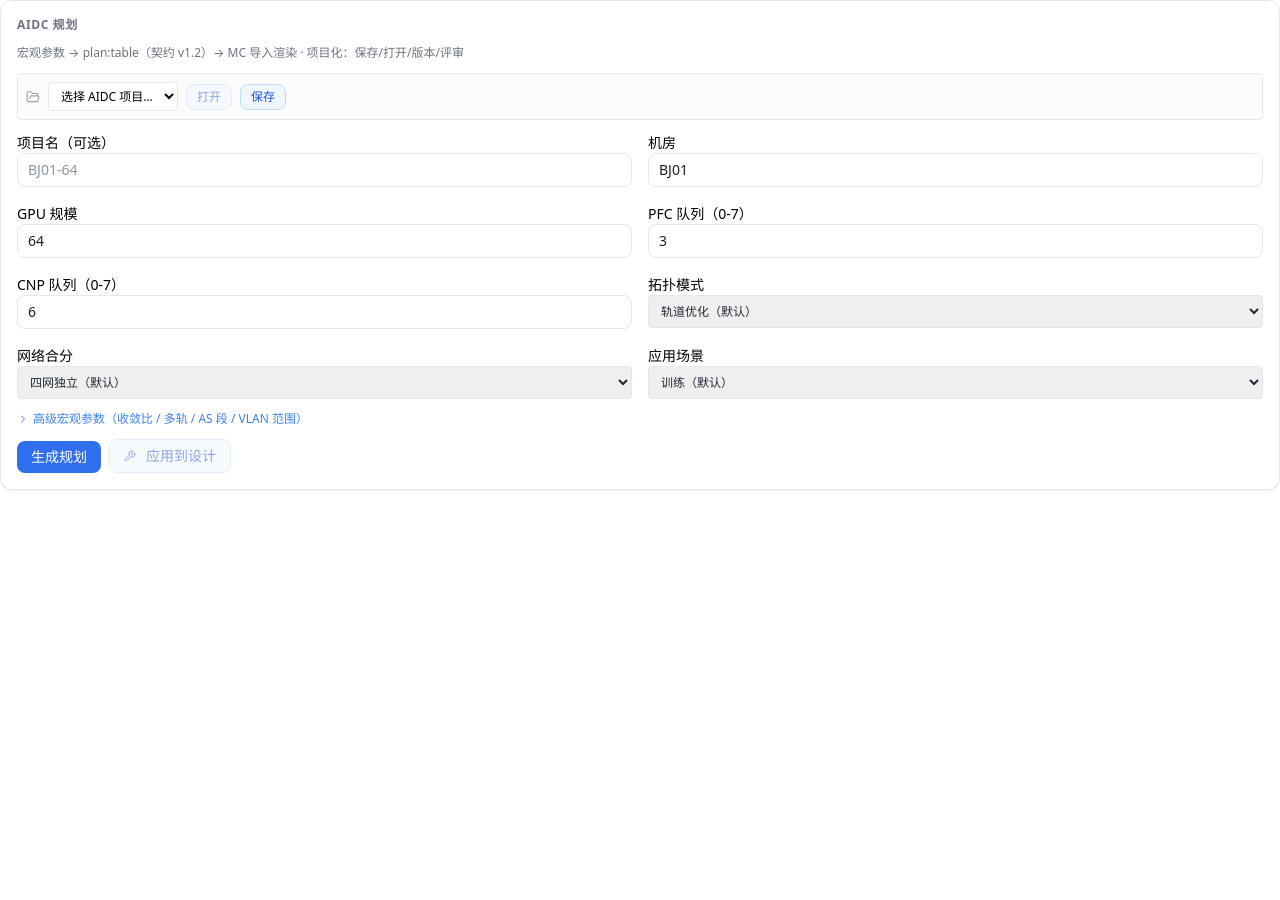
Test: AidcPlannerPanel › 5.2.2-522-h（契约 v1.3）：拓扑/合分/场景选择随请求下发（F522-1 AIDC 面板入口）
The image size is (1280, 900).
Select "Zcube" in the dropdown named "拓扑模式". click: [956, 312]
box: top-left (648, 295), bottom-right (1263, 328)
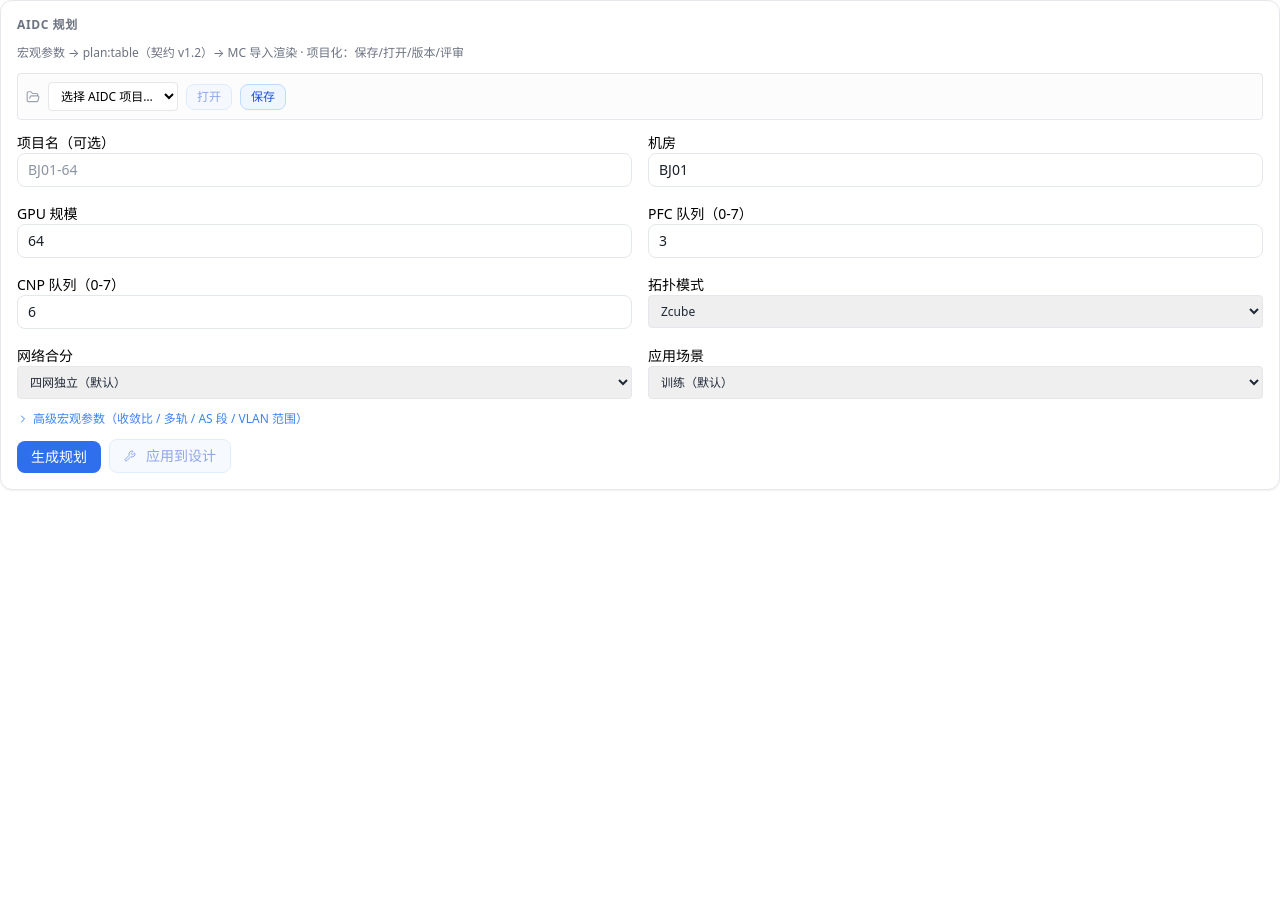
Select "推理 4合1" in the dropdown named "网络合分". click: [324, 382]
box: top-left (17, 366), bottom-right (632, 399)
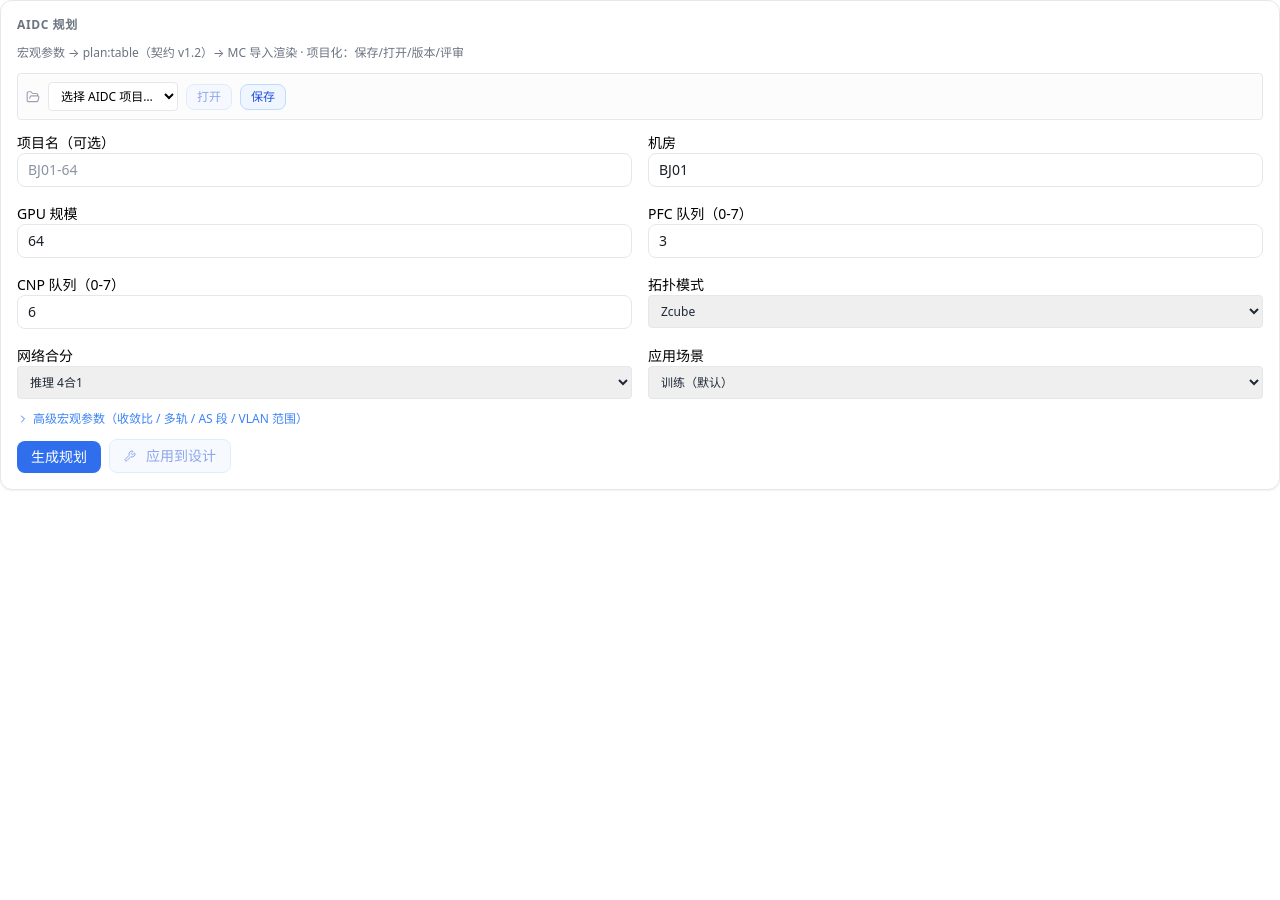
Select "推理" in the dropdown named "应用场景". click: [956, 382]
box: top-left (648, 366), bottom-right (1263, 399)
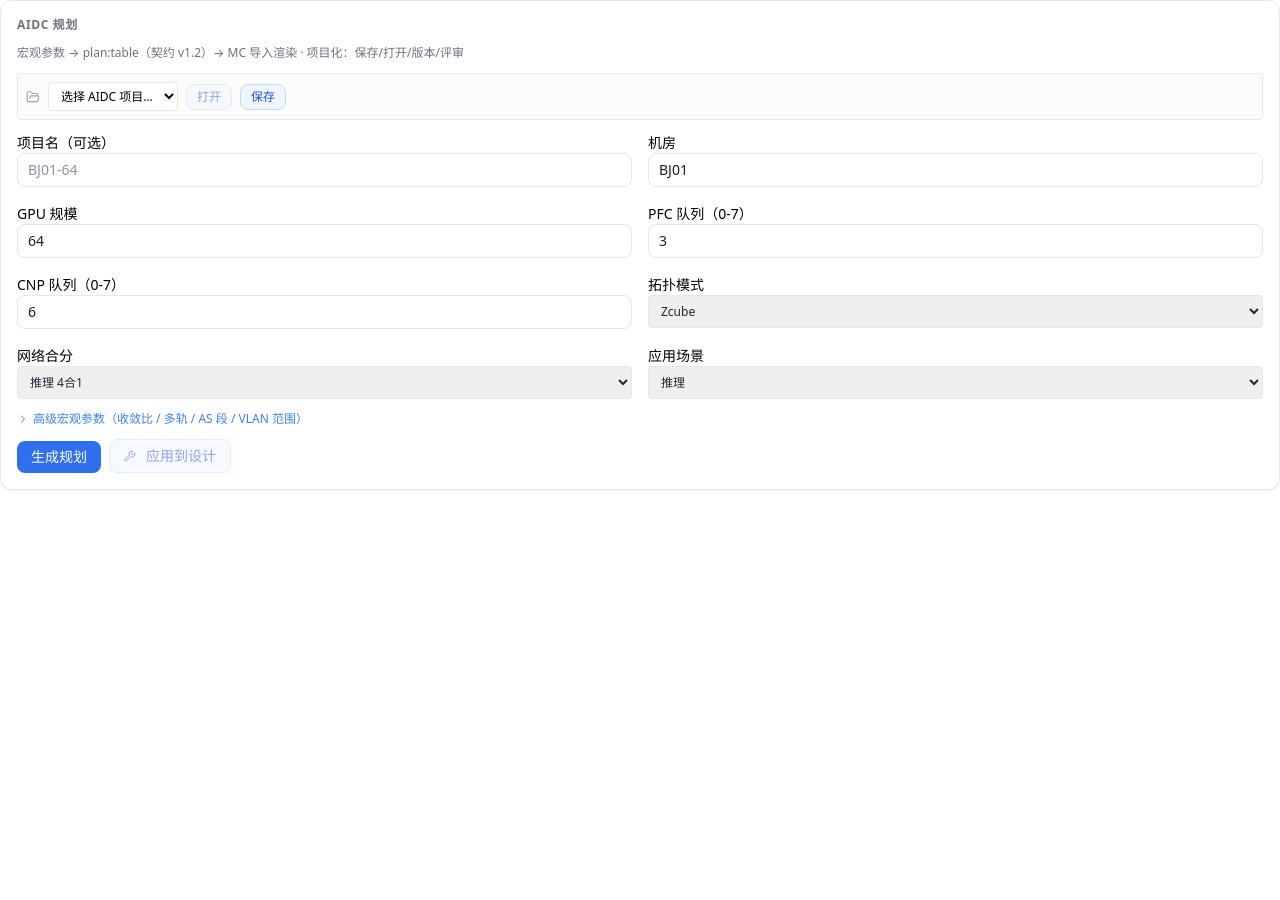
Click the button "生成规划". click: [59, 457]
box: top-left (17, 441), bottom-right (101, 473)
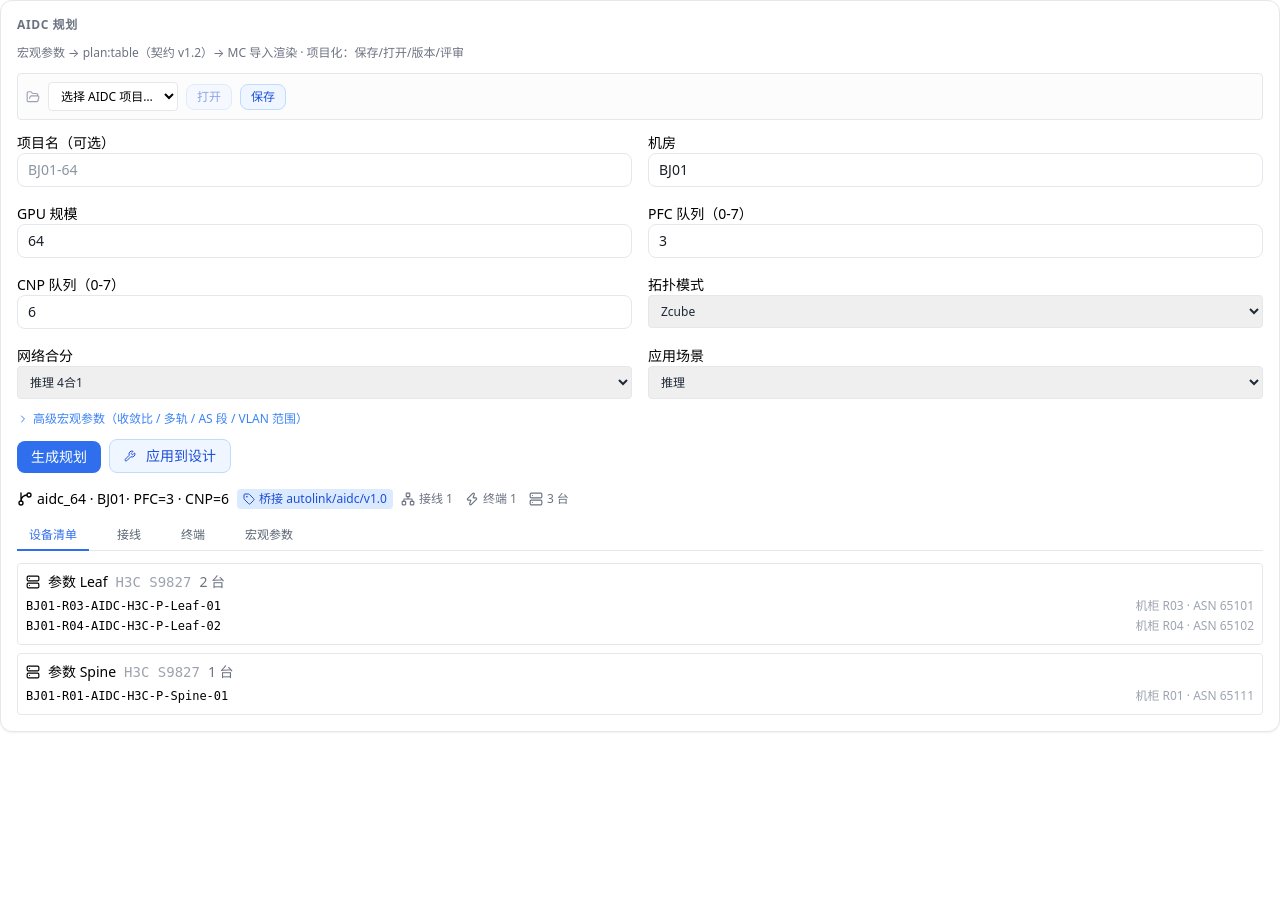
Expected: the text "aidc_64 · BJ01· PFC=3 · CNP=6" is shown, top-left (17, 489), bottom-right (229, 509)
